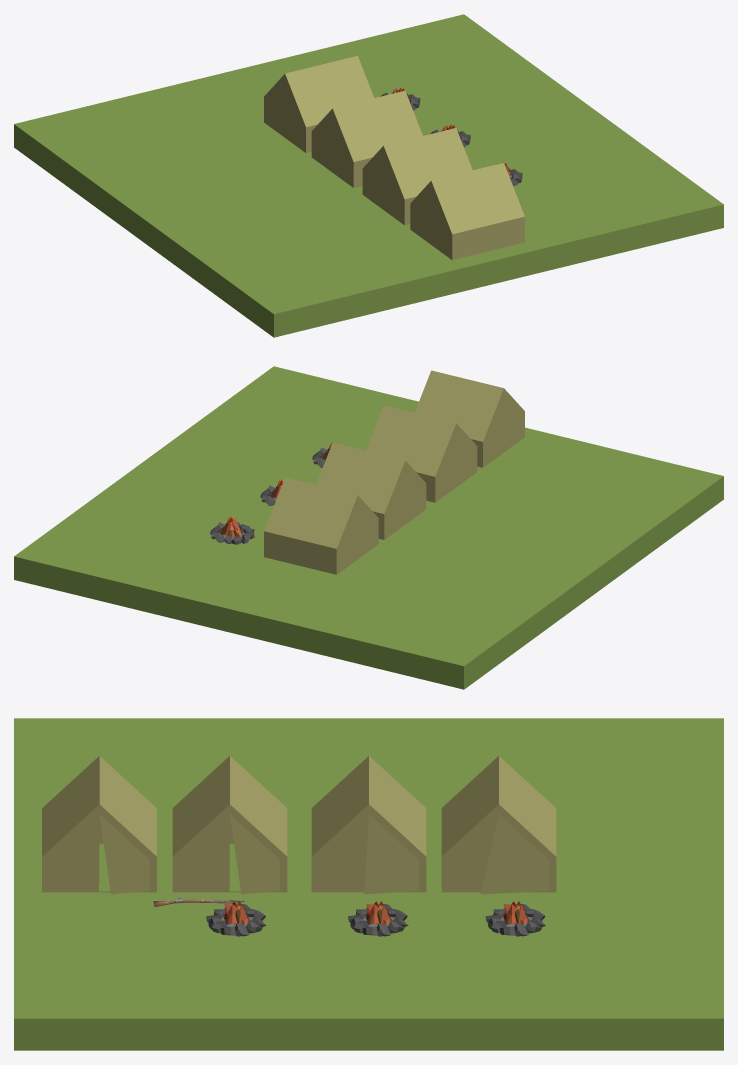
File: BackScene.dae
The picture shows the model from 3 angles, top to bottom: view 1: azimuth 30°, elevation 25°; view 2: azimuth 150°, elevation 25°; view 3: azimuth 270°, elevation 25°; orthographic projection. The views are drawn at different scales.
Visible parts, largest first — view 1: Cube, Cube.003, Cube.001, Cube.002, Cube.004; view 2: Cube, Cube.004, Cube.002, Cube.001, Cube.003, Circle; view 3: Cube, Cube.004, Cube.001, Cube.002, Cube.003, Circle, Circle.003, Circle.002.
Boxes of the visible parts, box(x1,y1,x2,y2) form: Cube: box(14, 14, 723, 337); Cube.003: box(410, 163, 524, 260); Cube.001: box(311, 90, 422, 187); Cube.002: box(362, 128, 472, 225); Cube.004: box(264, 56, 373, 153); Cube: box(14, 366, 723, 689); Cube.004: box(264, 477, 378, 574); Cube.002: box(366, 405, 477, 502); Cube.001: box(316, 442, 426, 539); Cube.003: box(414, 370, 524, 467); Circle: box(210, 517, 254, 544); Cube: box(14, 718, 723, 1050); Cube.004: box(441, 756, 556, 894); Cube.001: box(311, 756, 426, 894); Cube.002: box(172, 756, 287, 894); Cube.003: box(42, 756, 156, 894); Circle: box(485, 901, 545, 936); Circle.003: box(206, 901, 266, 936); Circle.002: box(348, 901, 408, 936).
Bounding box in the file's own units: 12.37 × 12.37 × 2.32.
9 materials, 1 textured.
